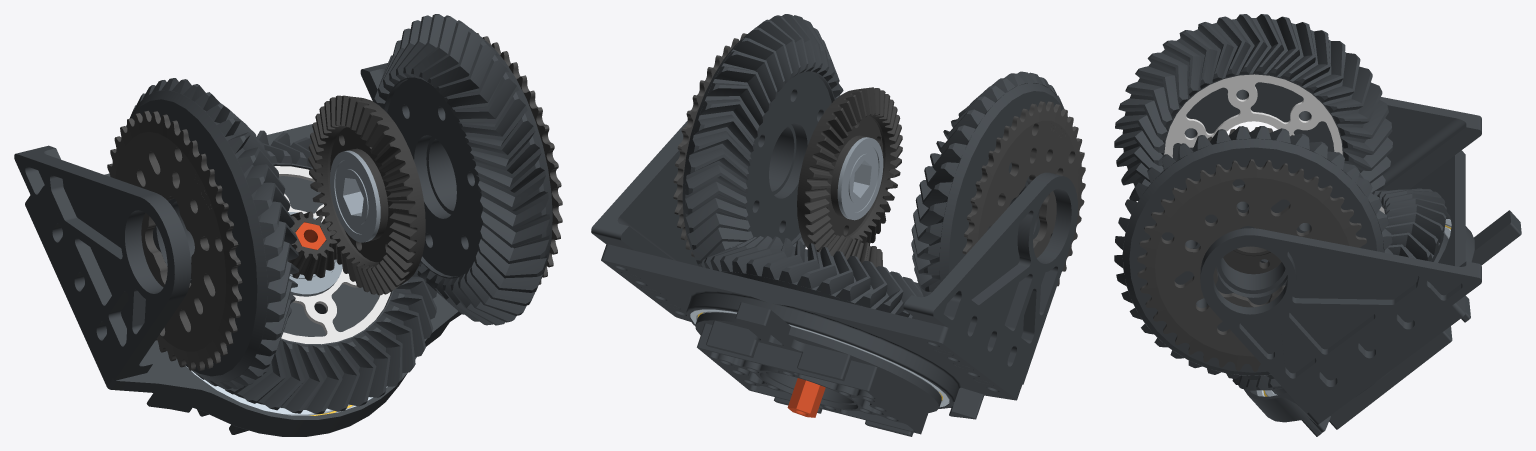
3 renders of one model, left to right at view 1: azimuth 30°, elevation 25°; view 2: azimuth 150°, elevation 25°; view 3: azimuth 270°, elevation 25°, orthographic. The views are drawn at different scales.
Parts seen in each view (by area): view 1: Spiral Bevel 2.54M 41T 45deg (×3), Part 3, 42t Aluminum Plate Sprocket (#25 Chain, SplineXL Bore) (×2), 45t 1.5 Module Steel 1" Bore Bevel Gear (WCP-0233), Part 1, .5" Hex ID 1.125" OD Flanged Bearing (217-2734), Part 6, 15t 1.5 Module Steel 3/8" Hex Bore Bevel Gear (WCP-0276), Part 2 (×2), .375" Hex ID 1.125" OD Flanged Bearing (217-2735), 4" OD x 3.5" ID x .25" X-Contact Bearing (TTB-0003); view 2: Spiral Bevel 2.54M 41T 45deg (×3), Part 1 (×2), Part 3, 42t Aluminum Plate Sprocket (#25 Chain, SplineXL Bore) (×2), 45t 1.5 Module Steel 1" Bore Bevel Gear (WCP-0233), Part 2 (×2), .5" Hex ID 1.125" OD Flanged Bearing (217-2734), 15t 1.5 Module Steel 3/8" Hex Bore Bevel Gear (WCP-0276), 4" OD x 3.5" ID x .25" X-Contact Bearing (TTB-0003); view 3: Spiral Bevel 2.54M 41T 45deg (×3), Part 2, 42t Aluminum Plate Sprocket (#25 Chain, SplineXL Bore), Part 1 (×2), Part 3, Part 8, 45t 1.5 Module Steel 1" Bore Bevel Gear (WCP-0233).
Boxes of the visible parts, x1=… form: Spiral Bevel 2.54M 41T 45deg (×3): x1=126, y1=14, x2=552, y2=413; Part 3: x1=14, y1=145, x2=191, y2=380; 42t Aluminum Plate Sprocket (#25 Chain, SplineXL Bore) (×2): x1=107, y1=33, x2=562, y2=370; 45t 1.5 Module Steel 1" Bore Bevel Gear (WCP-0233): x1=308, y1=95, x2=425, y2=295; Part 1: x1=25, y1=124, x2=461, y2=436; .5" Hex ID 1.125" OD Flanged Bearing (217-2734): x1=330, y1=150, x2=380, y2=242; Part 6: x1=274, y1=166, x2=390, y2=344; 15t 1.5 Module Steel 3/8" Hex Bore Bevel Gear (WCP-0276): x1=288, y1=211, x2=337, y2=280; Part 2 (×2): x1=295, y1=63, x2=387, y2=249; .375" Hex ID 1.125" OD Flanged Bearing (217-2735): x1=288, y1=212, x2=342, y2=296; 4" OD x 3.5" ID x .25" X-Contact Bearing (TTB-0003): x1=186, y1=366, x2=387, y2=415; Spiral Bevel 2.54M 41T 45deg (×3): x1=682, y1=14, x2=1067, y2=319; Part 1 (×2): x1=601, y1=244, x2=1022, y2=436; Part 3: x1=903, y1=172, x2=1077, y2=385; 42t Aluminum Plate Sprocket (#25 Chain, SplineXL Bore) (×2): x1=673, y1=33, x2=1085, y2=286; 45t 1.5 Module Steel 1" Bore Bevel Gear (WCP-0233): x1=797, y1=87, x2=902, y2=252; Part 2 (×2): x1=591, y1=121, x2=825, y2=417; .5" Hex ID 1.125" OD Flanged Bearing (217-2734): x1=837, y1=137, x2=883, y2=220; 15t 1.5 Module Steel 3/8" Hex Bore Bevel Gear (WCP-0276): x1=827, y1=235, x2=882, y2=267; 4" OD x 3.5" ID x .25" X-Contact Bearing (TTB-0003): x1=690, y1=309, x2=949, y2=407; Spiral Bevel 2.54M 41T 45deg (×3): x1=1114, y1=14, x2=1448, y2=394; Part 2: x1=1200, y1=228, x2=1481, y2=413; 42t Aluminum Plate Sprocket (#25 Chain, SplineXL Bore): x1=1137, y1=159, x2=1366, y2=371; Part 1 (×2): x1=1243, y1=150, x2=1521, y2=436; Part 3: x1=1379, y1=97, x2=1481, y2=190; Part 8: x1=1164, y1=74, x2=1342, y2=157; 45t 1.5 Module Steel 1" Bore Bevel Gear (WCP-0233): x1=1208, y1=127, x2=1293, y2=274.
Size of the model in its own units: 0.1461 by 0.1415 by 0.155.
